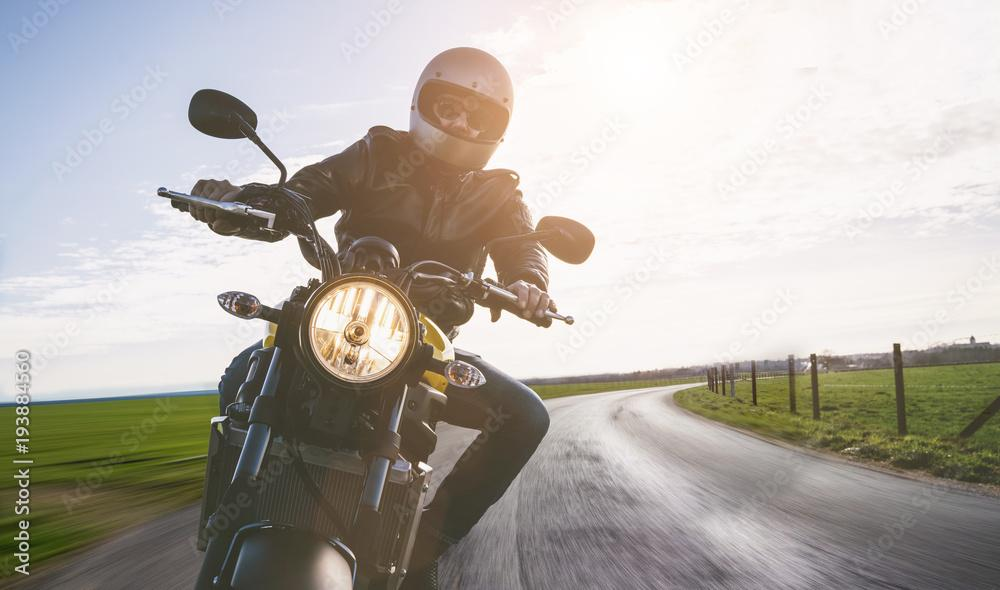helmet: (408, 46, 515, 173)
